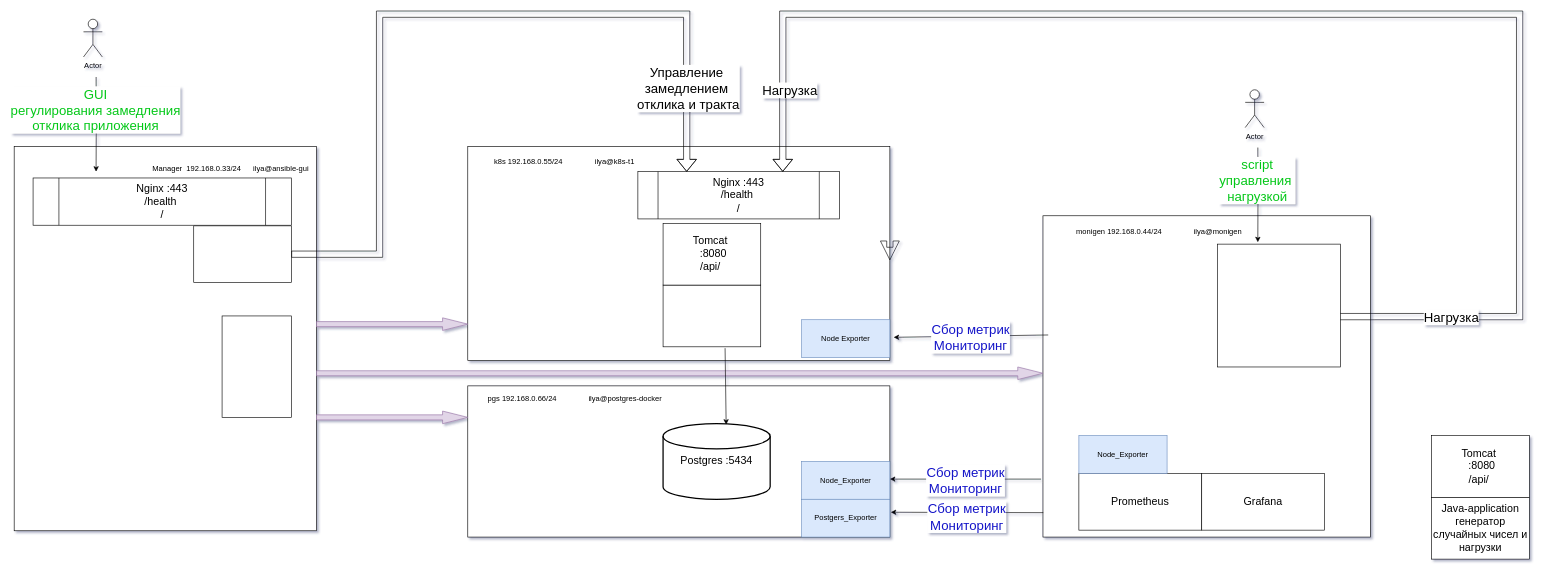
This 1545x574 diagram has some shape labels left out. Each missing label, with the centre of its shape:
Ansible: the point at 256,366
Grafana k6: the point at 1278,305
Java-application Замедлитель ответов: the point at 711,315
Node.js :3001 /ui/: the point at 242,254
